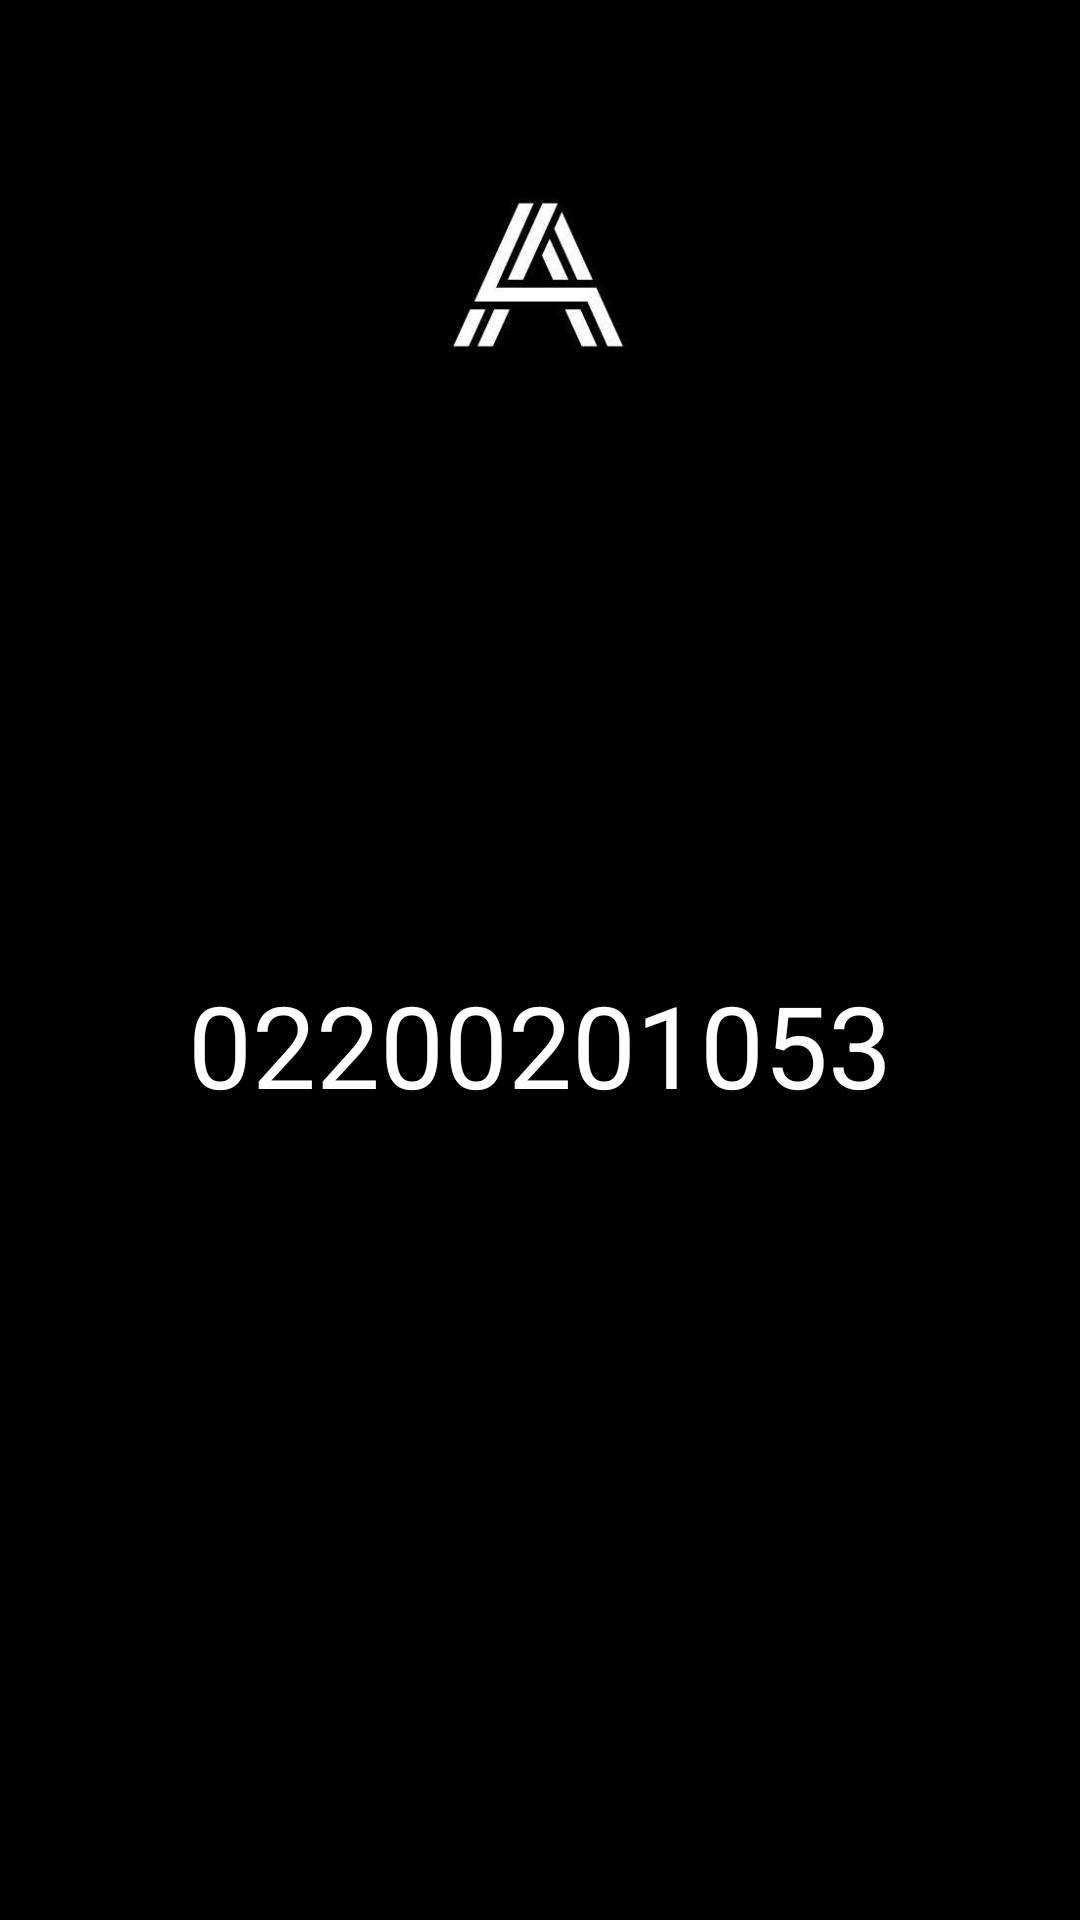

Icons on this 1080 x 1920 Android screen, each with the point to tap as (x=x, y=y):
loggo: (x=538, y=274)
